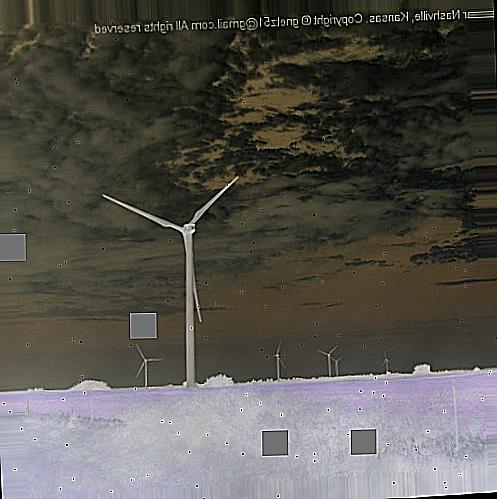wind turbine: (103, 174, 240, 391), (134, 345, 161, 386), (314, 345, 341, 380)
